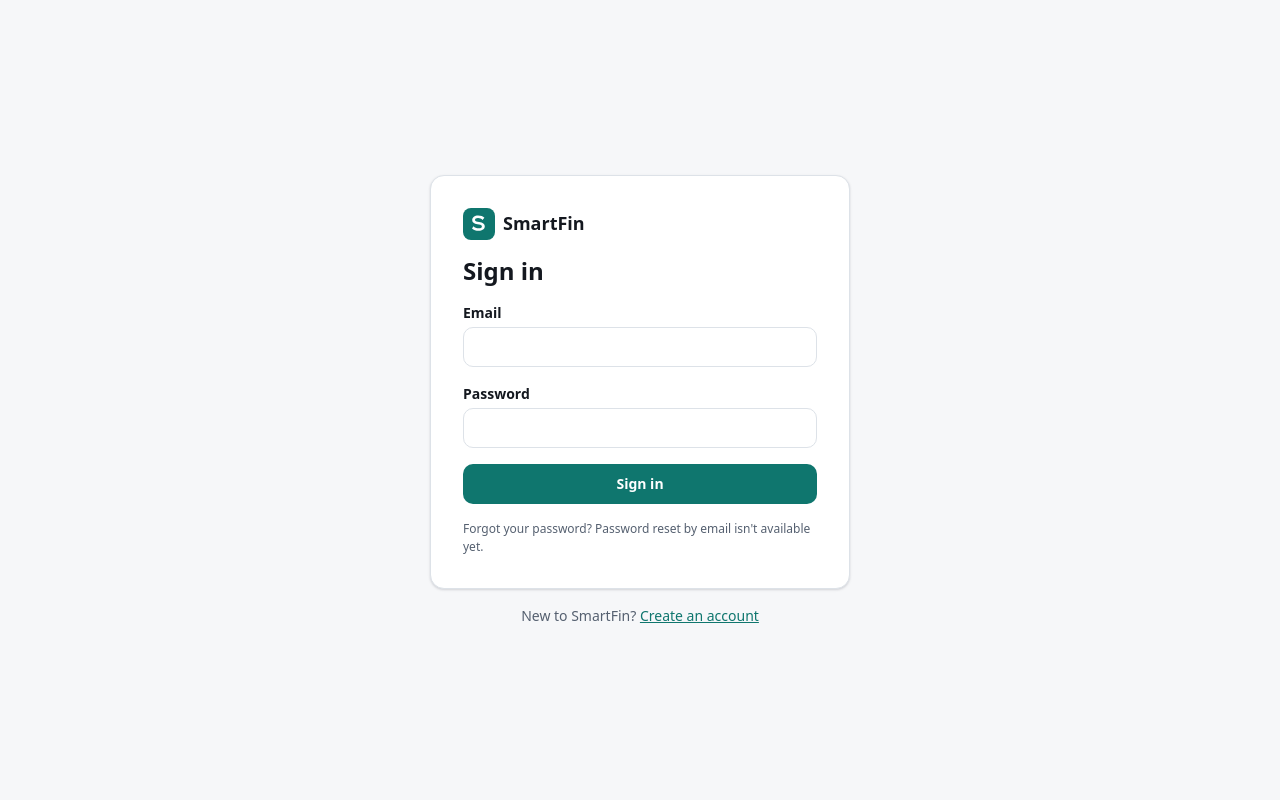
Test: authentication › signs in and lands on the dashboard
The width and height of the screenshot is (1280, 800).
Type "Asha@Example.com" into the field labelled "Email".
click(640, 346); type("Asha@Example.com")  # box [463,326,817,366]
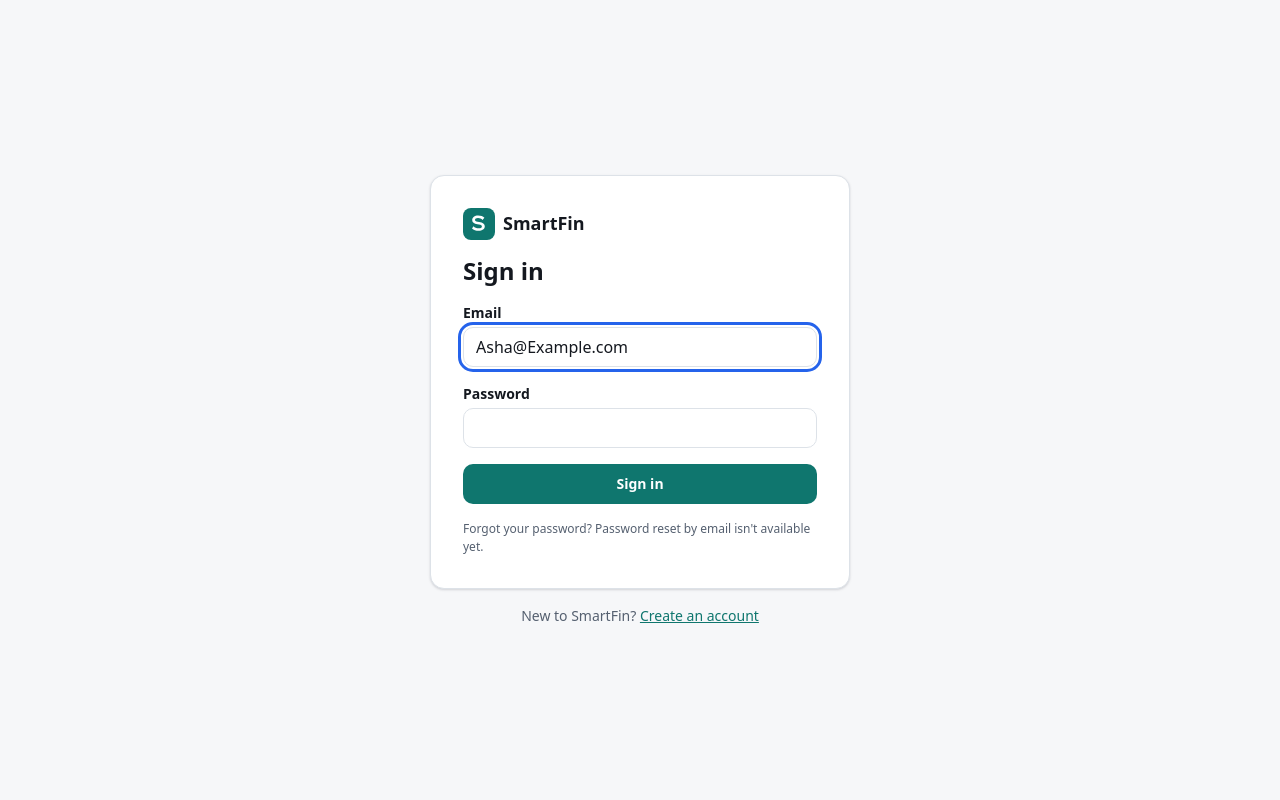
Type "correct horse" into the password field labelled "Password".
click(640, 428); type("correct horse")  # box [463,408,817,448]
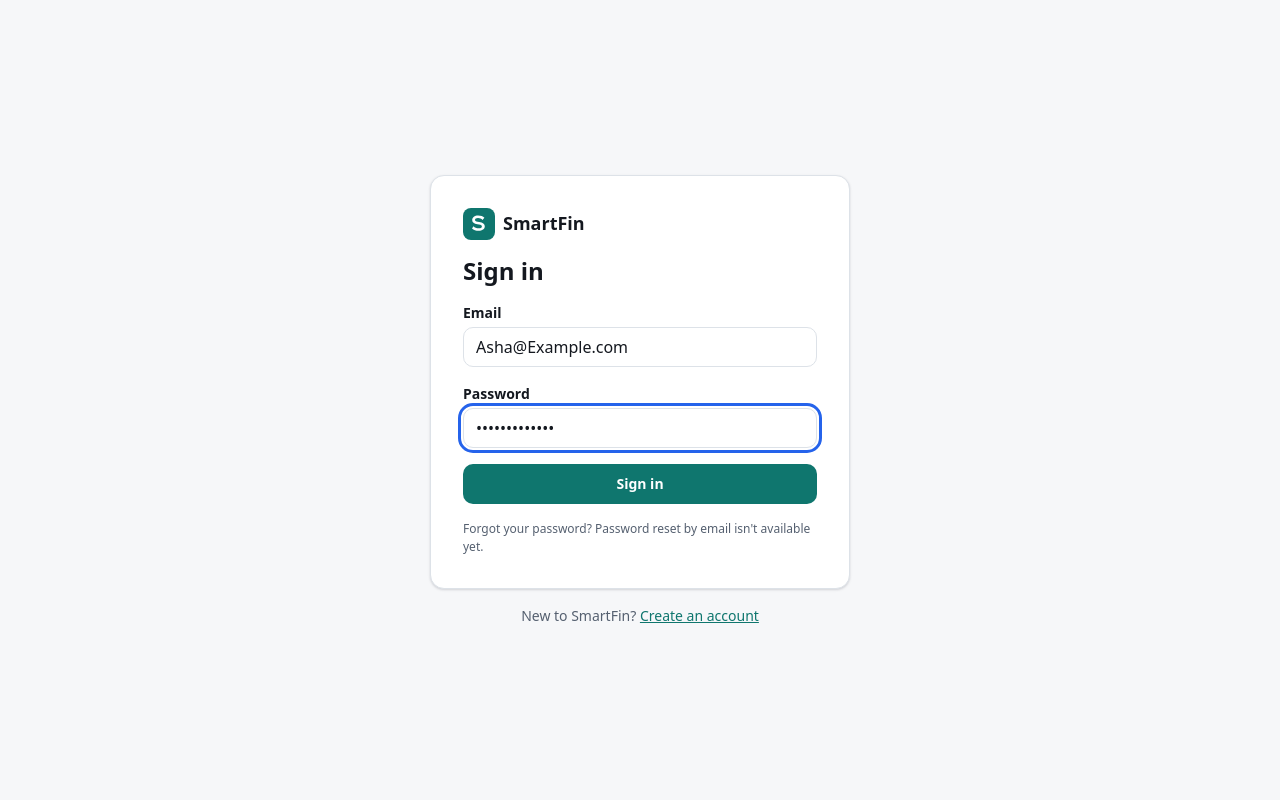
Click the button "Sign in".
click(640, 484)  # box [463,464,817,504]
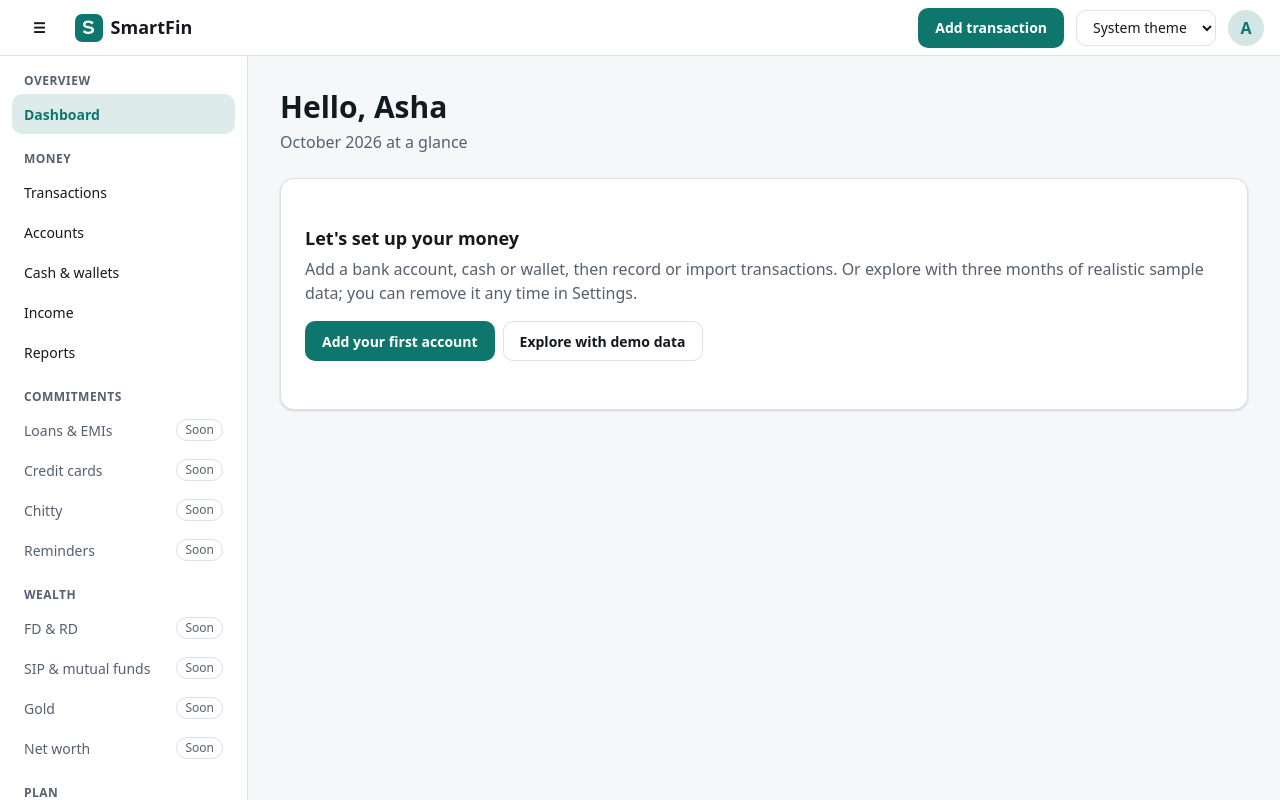
Check: the heading "Hello, Asha" is shown, box [280,88,468,126]
